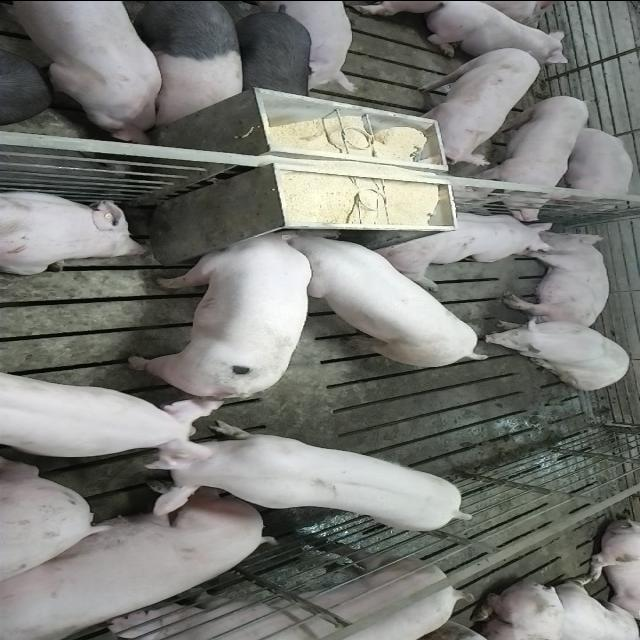Feeding: (124, 220, 312, 394), (284, 230, 496, 370)
Lateral_lying: (0, 478, 274, 637), (501, 229, 611, 329)
Sitting: (481, 316, 634, 390)
Standing: (144, 420, 480, 534), (93, 542, 466, 640), (0, 2, 166, 142), (0, 371, 220, 466), (118, 2, 246, 127), (410, 44, 542, 165), (479, 92, 594, 220), (226, 3, 316, 112)
Sternal_lying: (372, 208, 555, 286), (0, 186, 150, 274), (418, 2, 568, 62), (552, 124, 634, 207)
